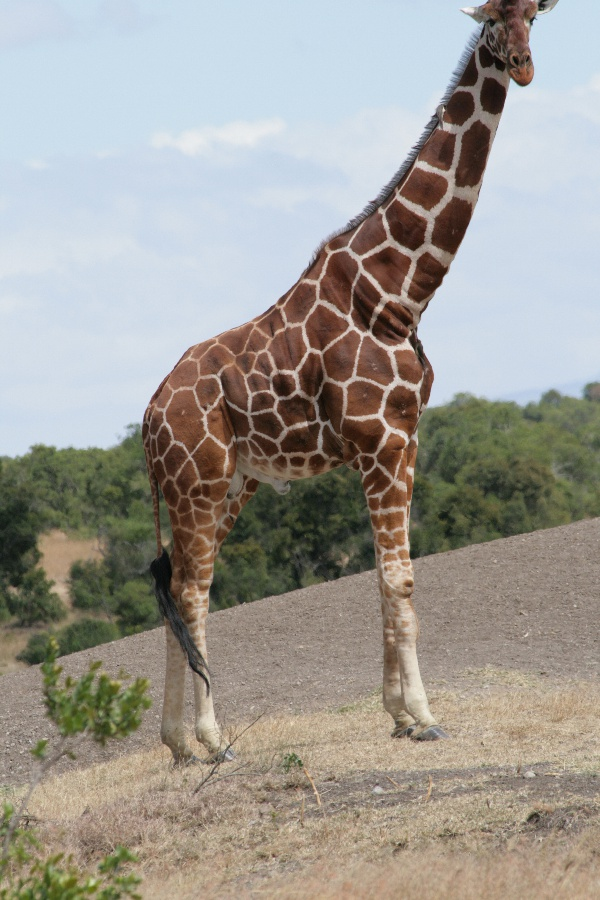giraffe: (133, 1, 555, 779)
